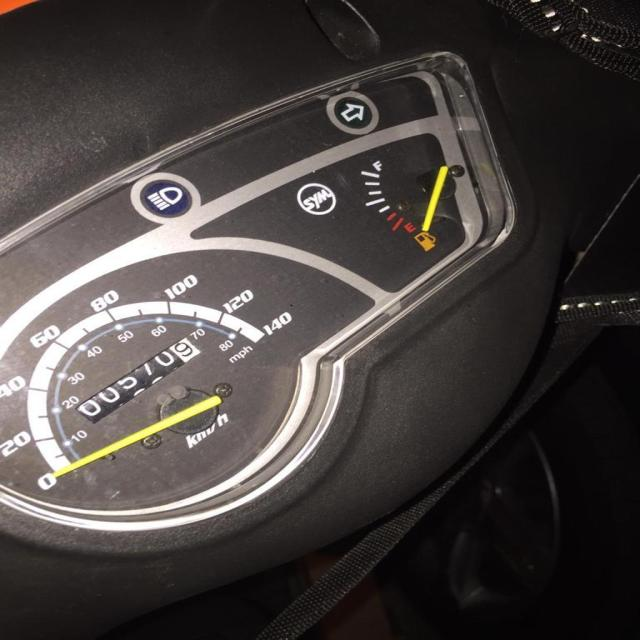odometer: (72, 334, 205, 427)
